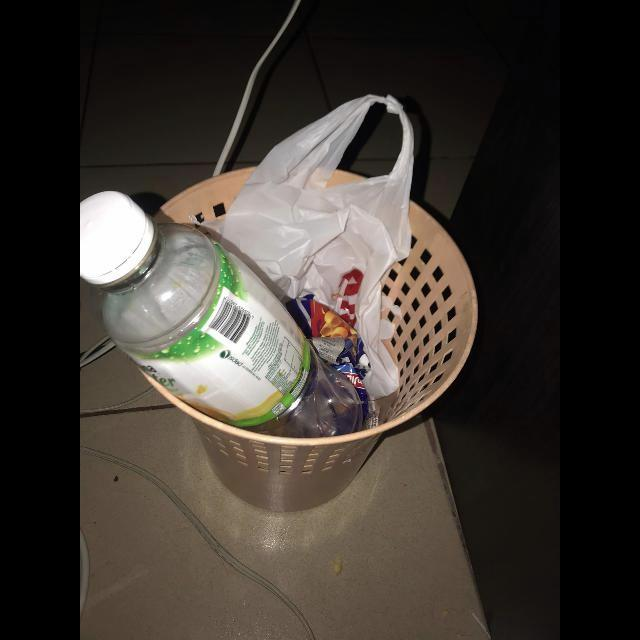food_wrapper: (286, 298, 370, 422)
plastic_bag: (202, 95, 415, 401)
plastic_bottle: (80, 191, 363, 439)
